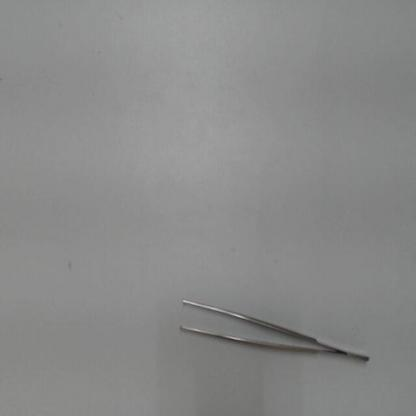Gillies Toothed Dissector: (164, 283, 376, 371)
